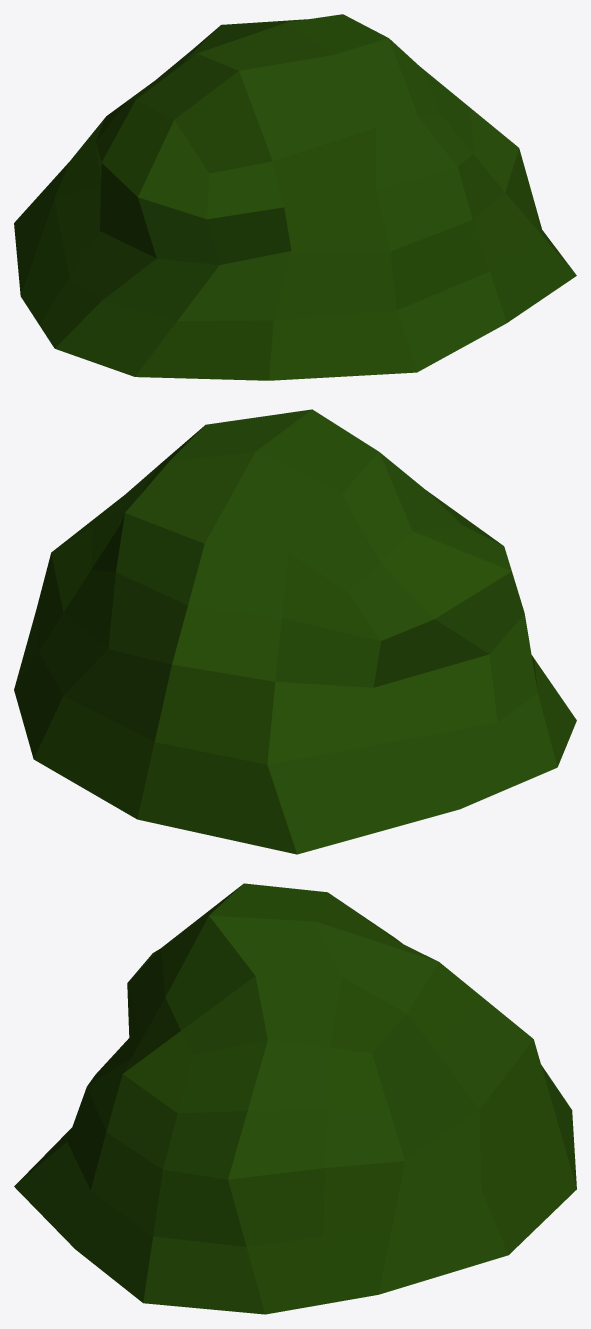
Rendered from wf_hill..fbx.
The picture shows the model from 3 angles, top to bottom: view 1: azimuth 30°, elevation 25°; view 2: azimuth 150°, elevation 25°; view 3: azimuth 270°, elevation 25°; orthographic projection. The views are drawn at different scales.
Visible parts, largest first — view 1: Cube; view 2: Cube; view 3: Cube.
Boxes of the visible parts, x1,y1,x2,y2 form: Cube: [14, 14, 576, 380]; Cube: [14, 409, 576, 854]; Cube: [14, 883, 576, 1314].
Size of the model in its own units: 295 by 147 by 270.
